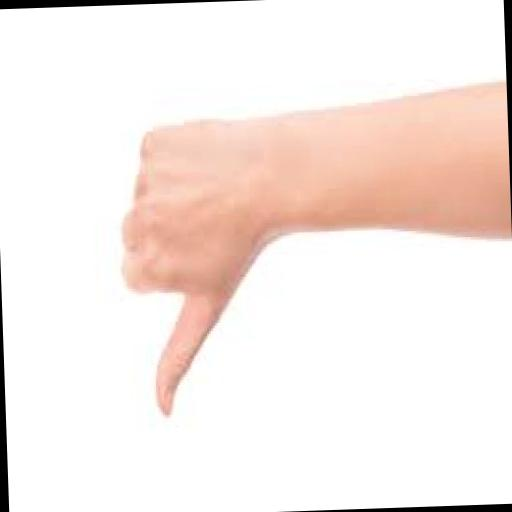Thumbs_Down: (93, 64, 380, 446)
